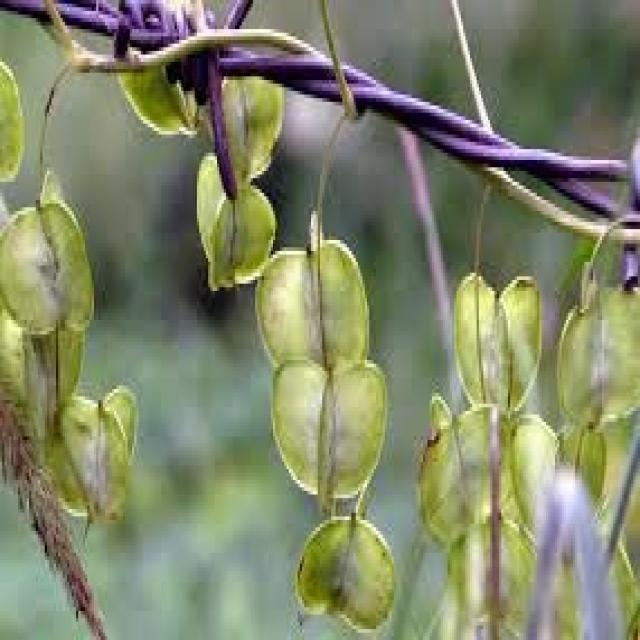Yam: (265, 248, 431, 640), (419, 232, 572, 640), (0, 143, 149, 547), (114, 8, 289, 297), (548, 216, 640, 442)
